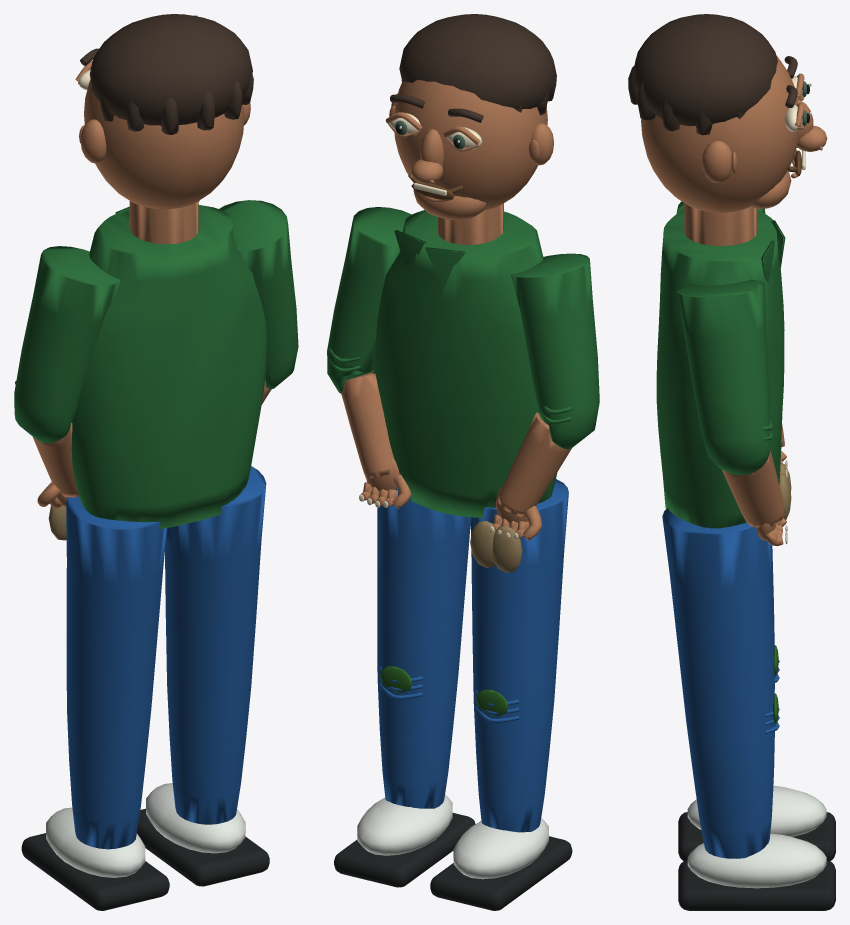
The model's file is NPC_Sam_Casual.fbx.
The picture shows the model from 3 angles, left to right: view 1: azimuth 30°, elevation 25°; view 2: azimuth 150°, elevation 25°; view 3: azimuth 270°, elevation 25°; orthographic projection. The views are drawn at different scales.
Parts seen in each view (by area): view 1: NPC_Sam_Casual__Body, NPC_Sam_Casual__Head; view 2: NPC_Sam_Casual__Body, NPC_Sam_Casual__Head; view 3: NPC_Sam_Casual__Body, NPC_Sam_Casual__Head.
Part boxes in pixels (bbox=[...]): NPC_Sam_Casual__Body: bbox=[14, 200, 298, 910]; NPC_Sam_Casual__Head: bbox=[75, 14, 253, 209]; NPC_Sam_Casual__Body: bbox=[327, 203, 599, 910]; NPC_Sam_Casual__Head: bbox=[385, 14, 556, 220]; NPC_Sam_Casual__Body: bbox=[656, 201, 835, 910]; NPC_Sam_Casual__Head: bbox=[628, 14, 827, 212].
Bounding box in the file's own units: 50.4 × 151 × 33.6.
Materials: 1 (1 with a texture image).
